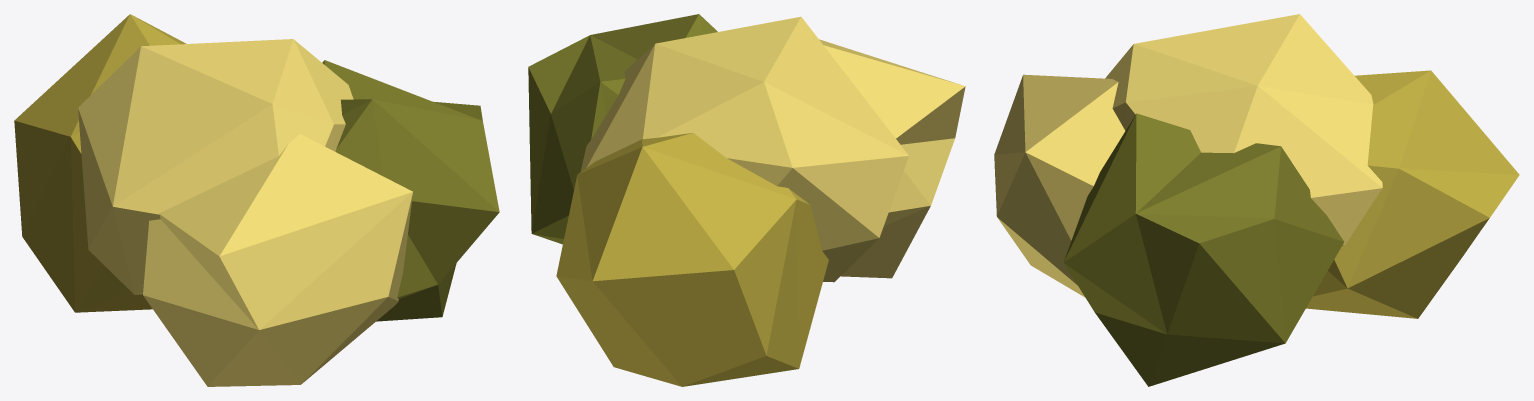
Rendered from bush_4_lod1.glb.
3 views of the same model, side by side, from view 1: azimuth 30°, elevation 25°; view 2: azimuth 150°, elevation 25°; view 3: azimuth 270°, elevation 25° (orthographic).
Parts seen in each view (by area): view 1: bush_4_lod1; view 2: bush_4_lod1; view 3: bush_4_lod1.
Part boxes in pixels (x1,y1,x2,y2): bush_4_lod1: [14, 14, 499, 386]; bush_4_lod1: [528, 14, 965, 386]; bush_4_lod1: [994, 14, 1519, 386].
Size of the model in its own units: 1.71 by 1.17 by 2.1.
